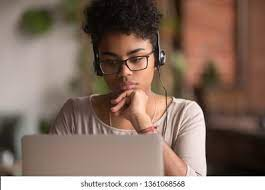listening: (71, 6, 171, 122)
